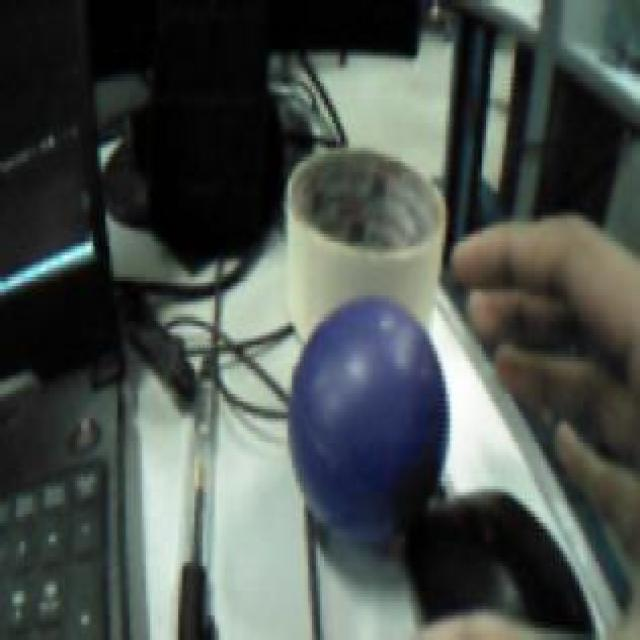BallPurple: (286, 298, 450, 545)
